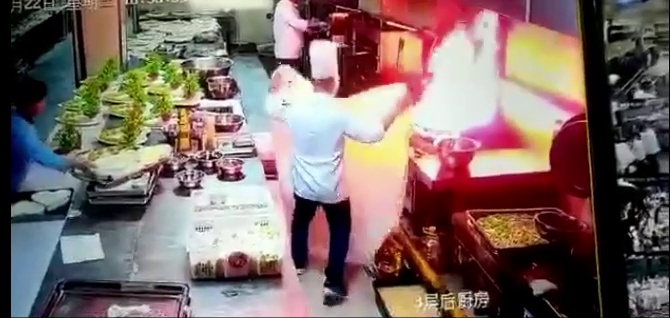fire: (420, 10, 514, 131)
